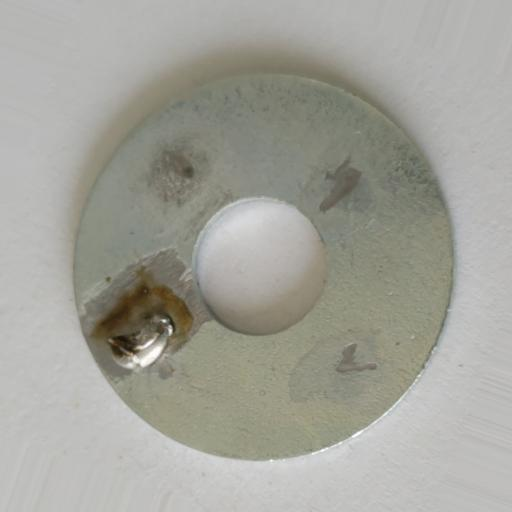excess_material: (109, 313, 175, 371)
